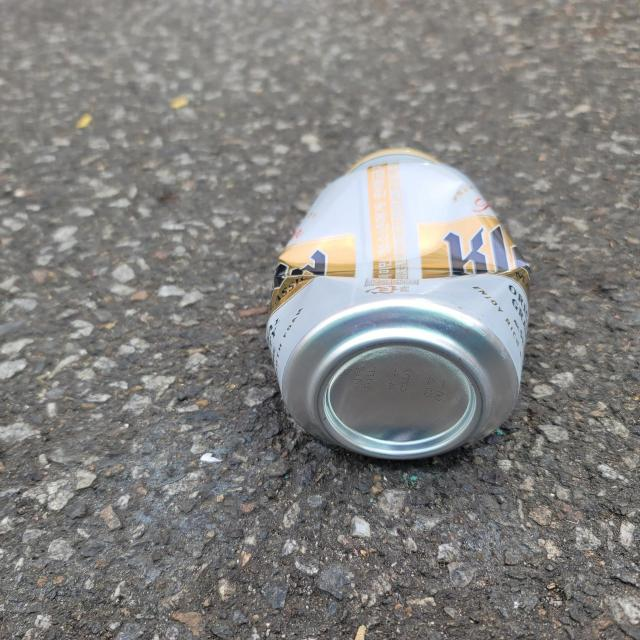can: (267, 148, 530, 460)
